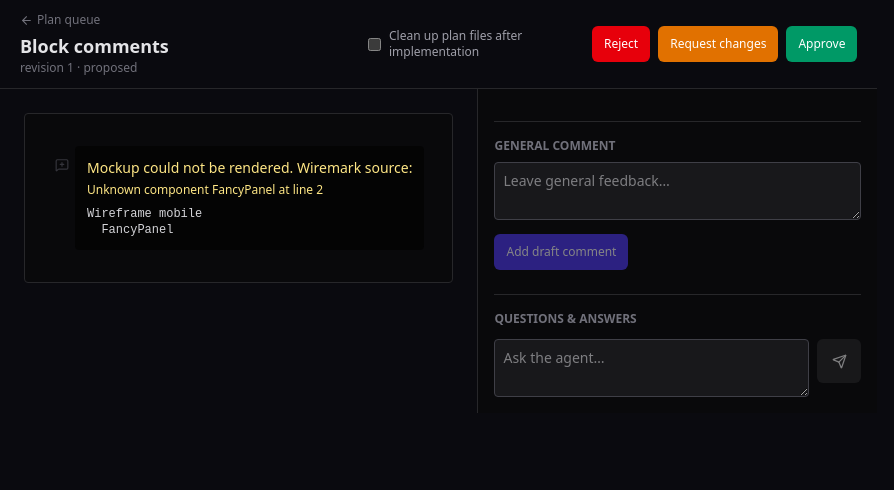
Test: PlanPage block comments › keeps mockup comments and plan actions usable when Wiremark rejects malformed source
Check: the message shows "Unknown component FancyPanel at line 2", box [87,181,323,198]
What coordinates should you click on to do the following:
click the button named "Comment on code block beginning"
I would click on:
 (62, 165)
Its box is [51,154,73,176].
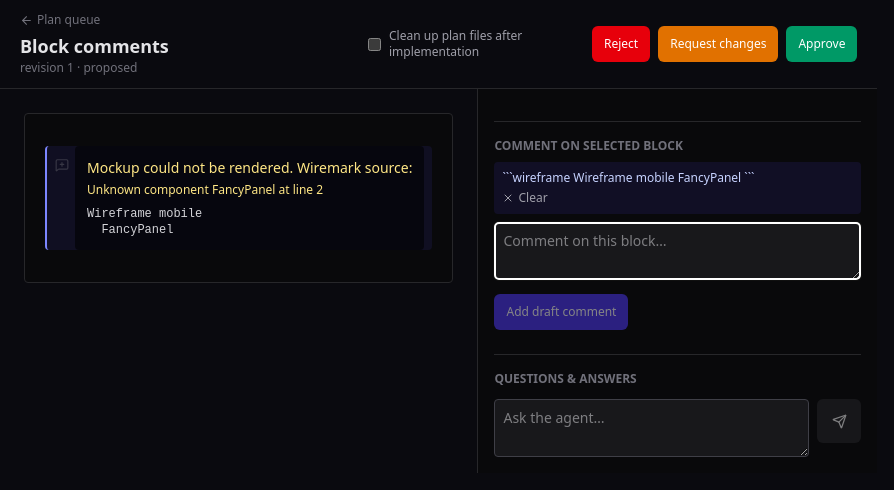
Check: the button "Approve" is shown, box [786,26,857,62]
Check: the text box named "Comment on selected block" is shown, box [494,222,862,280]
